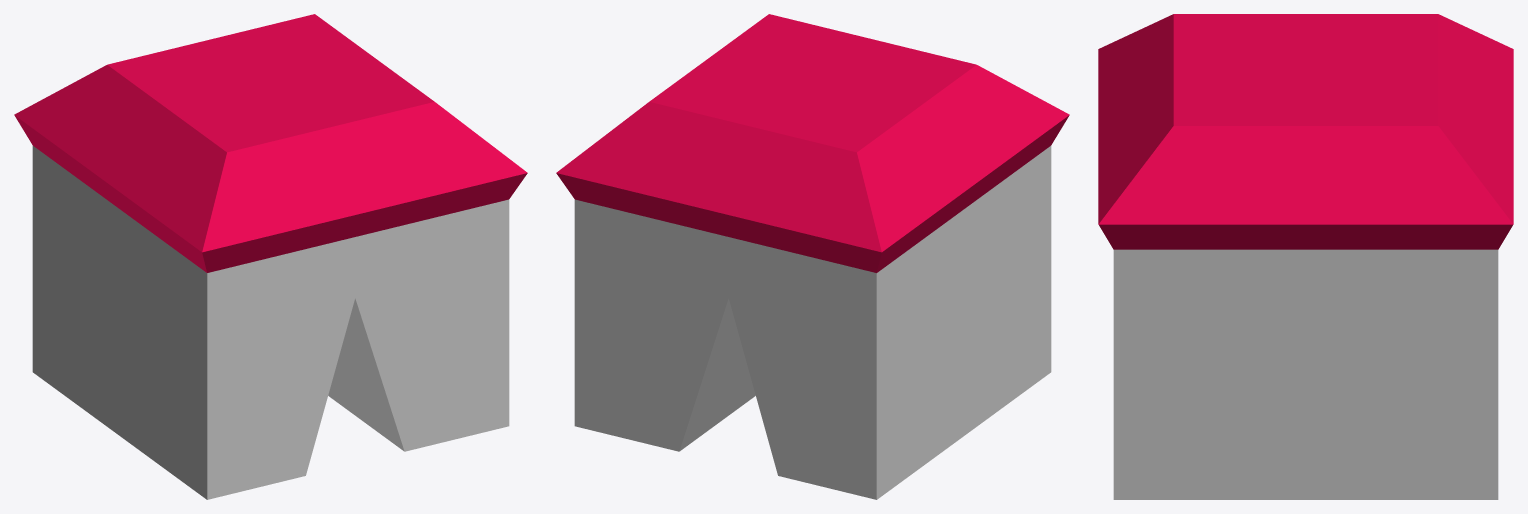
File: house.gltf
3 views of the same model, side by side, from view 1: azimuth 30°, elevation 25°; view 2: azimuth 150°, elevation 25°; view 3: azimuth 270°, elevation 25° (orthographic). The views are drawn at different scales.
Visible parts, largest first — view 1: Cube; view 2: Cube; view 3: Cube.
Part boxes in pixels (x1,y1,x2,y2): Cube: [14, 14, 527, 499]; Cube: [556, 14, 1069, 499]; Cube: [1098, 14, 1513, 499].
Size of the model in its own units: 4.5 by 4.18 by 4.5.
